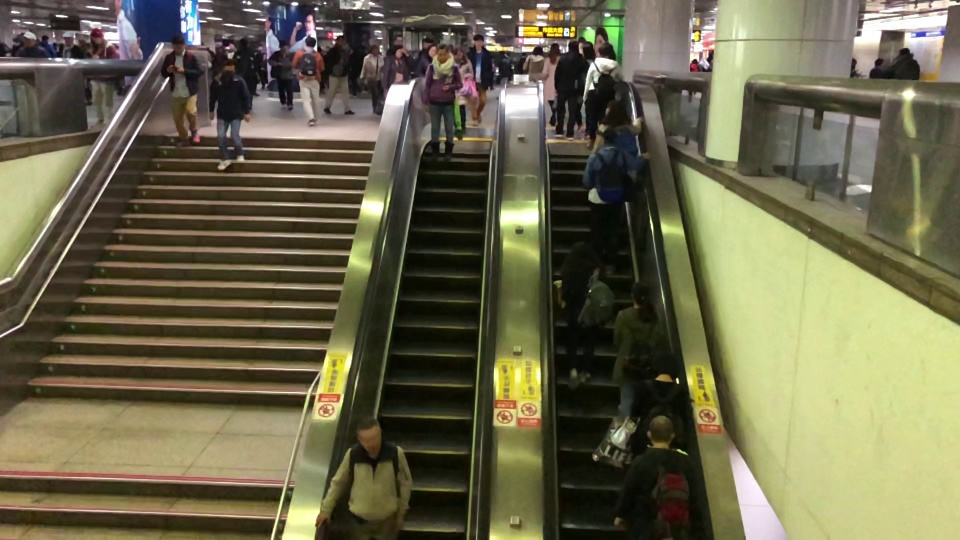person_head: (355, 414, 383, 456), (645, 414, 676, 448), (600, 98, 630, 126), (651, 349, 678, 378), (568, 241, 594, 266), (595, 123, 619, 148), (629, 281, 650, 306), (598, 41, 615, 60), (435, 44, 451, 64), (171, 34, 186, 55), (21, 31, 38, 49), (89, 27, 105, 45), (580, 41, 595, 59), (222, 58, 237, 75), (451, 45, 465, 62), (62, 31, 75, 46), (472, 33, 485, 48), (421, 35, 433, 50), (549, 43, 561, 56), (567, 39, 579, 52), (278, 40, 289, 54), (426, 44, 437, 58), (393, 45, 404, 58), (305, 36, 316, 48), (336, 34, 346, 47), (898, 47, 911, 57), (369, 44, 380, 55), (393, 34, 403, 46), (532, 46, 544, 56), (874, 57, 885, 67)
person_vbox: (314, 415, 412, 540), (581, 127, 651, 275), (611, 415, 694, 539), (559, 240, 615, 389), (612, 281, 665, 419), (627, 351, 689, 454), (419, 44, 463, 161), (159, 34, 204, 147), (209, 61, 252, 171), (583, 42, 625, 149), (552, 39, 589, 141), (84, 28, 121, 125), (291, 35, 324, 127), (589, 98, 645, 152), (321, 36, 355, 117), (465, 33, 494, 126), (574, 41, 597, 137), (451, 45, 474, 134), (267, 41, 296, 110), (359, 45, 385, 113), (541, 42, 562, 126), (380, 46, 411, 97), (887, 46, 920, 80), (14, 31, 52, 59), (58, 31, 87, 60), (521, 46, 545, 81), (414, 45, 438, 77), (868, 58, 888, 78)
